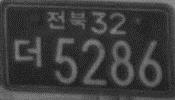2: (81, 38, 108, 87), (109, 11, 127, 35)
3: (90, 10, 108, 35)
5: (53, 37, 78, 84)
6: (137, 40, 163, 89)
8: (110, 40, 135, 87)
더: (14, 35, 42, 68)
전북_O: (47, 8, 87, 32)
